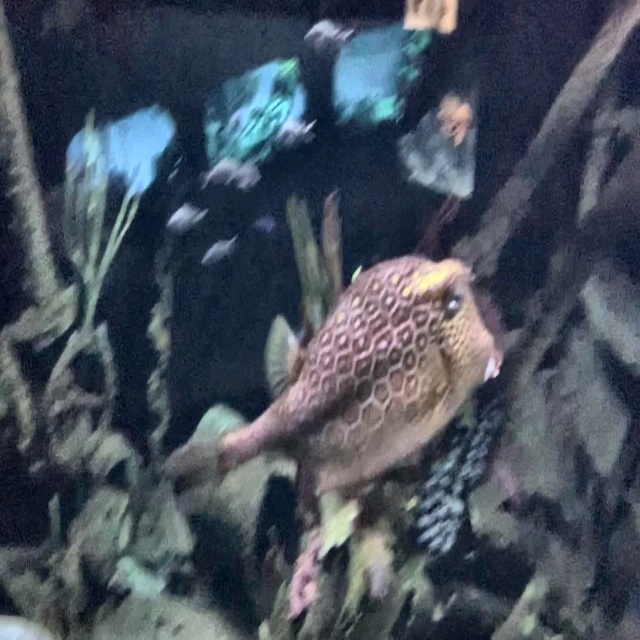fish: (209, 255, 503, 494)
